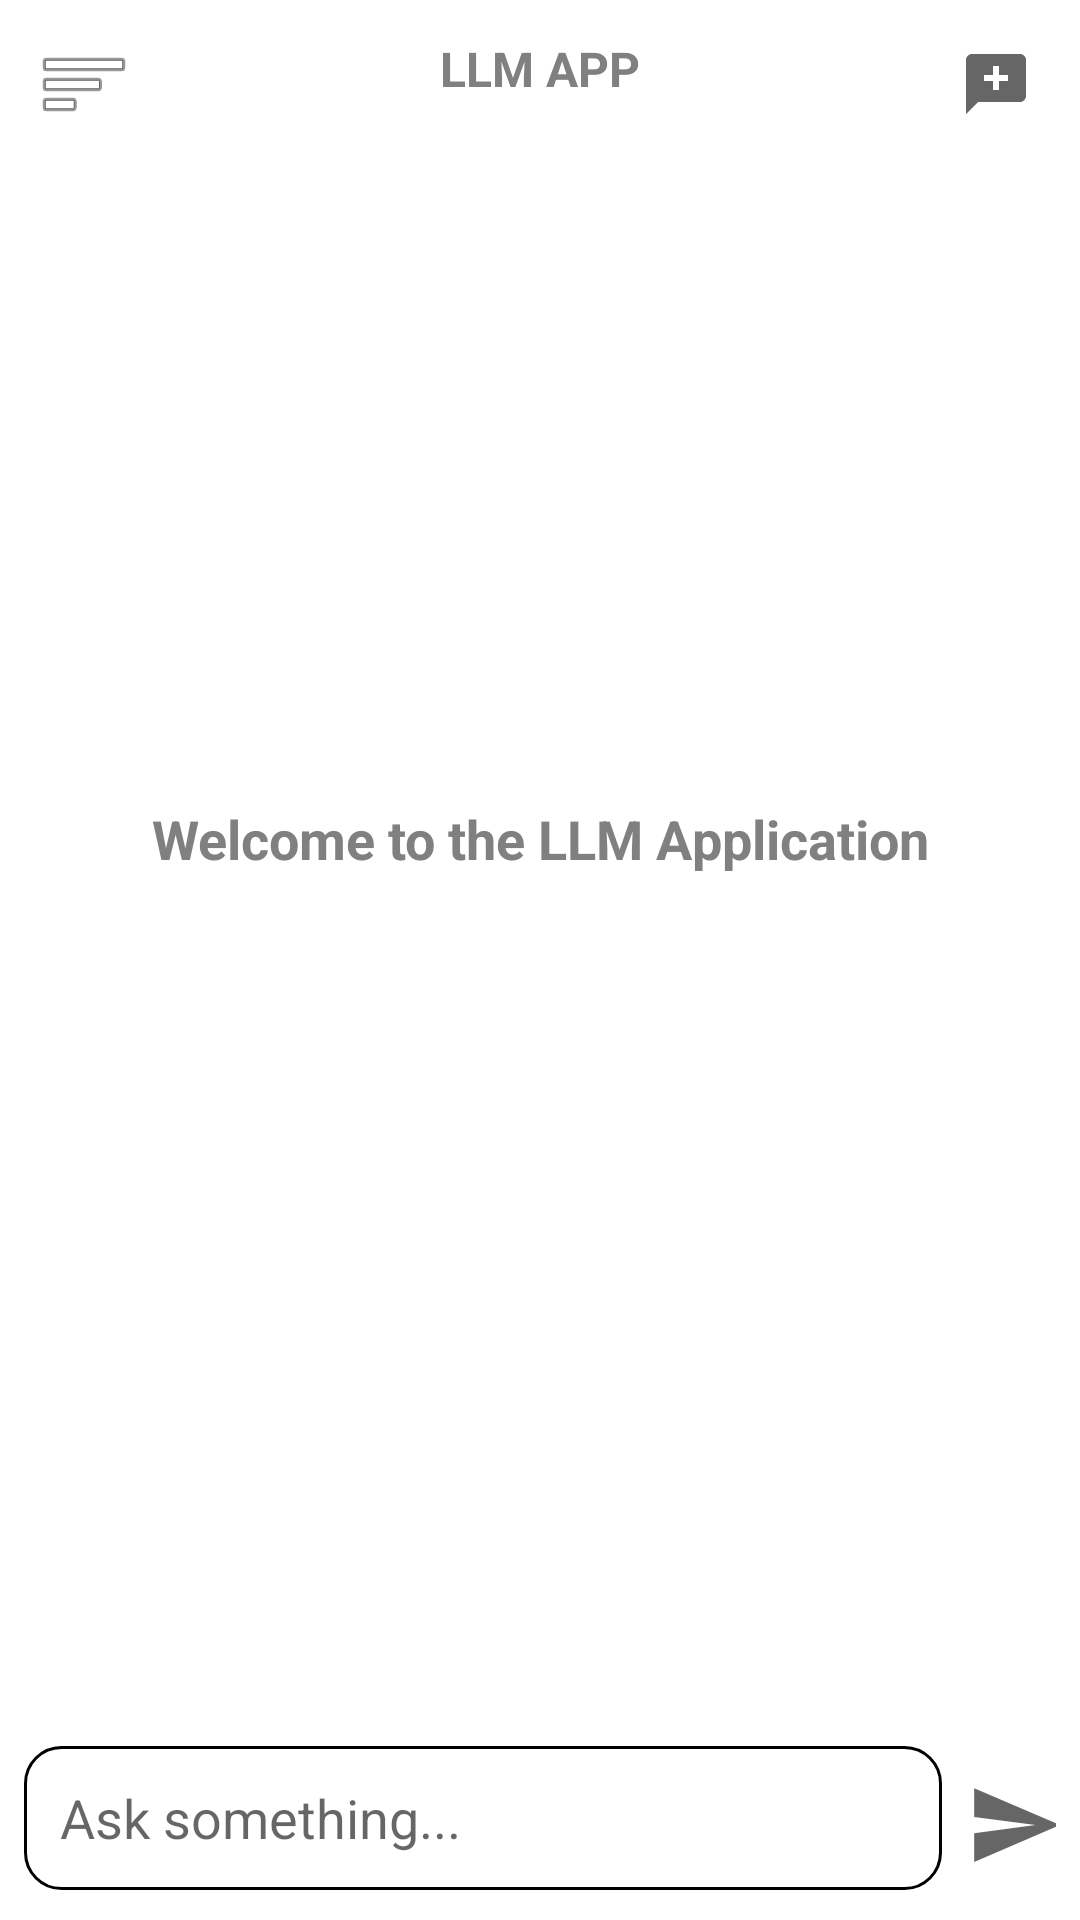

Named icons in this screenshot (1080px×1920px) and their bounding boxes, BBox(x1, y1, x2, y2):
Menu: BBox(43, 58, 125, 111)
New Chat: BBox(966, 54, 1026, 114)
Send: BBox(974, 1788, 1056, 1862)
